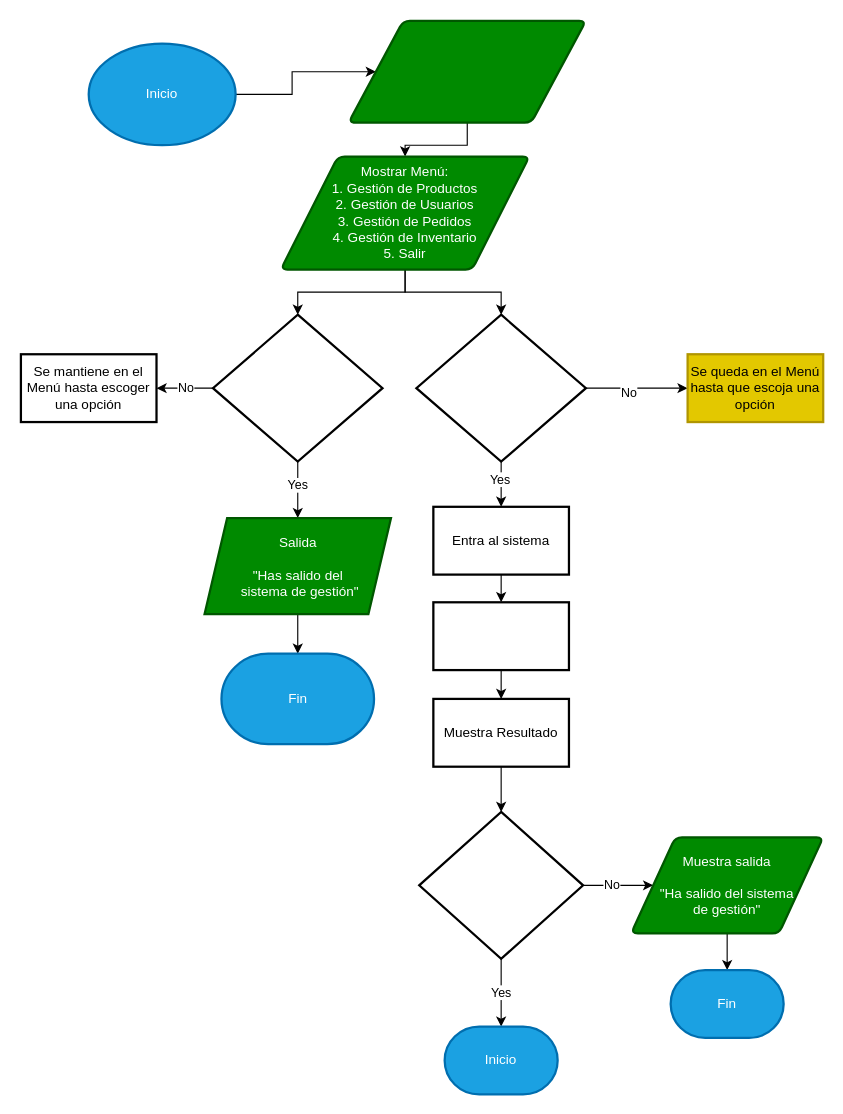
This 843x1114 diagram has some shape labels left out. Here are the shapes that lost their labels. From the top down, the box of each, then its label:
(347, 19, 586, 123): Entrada "Sistema de Gestión de E-commerce iniciando"
(211, 313, 383, 462): ¿El usuario escogió la opción 5?
(415, 313, 586, 462): ¿El usuario escogió una opción de gestión?
(432, 601, 570, 671): Ejecuta acción del módulo
(418, 810, 584, 959): ¿Regresar a Menú Principal?
